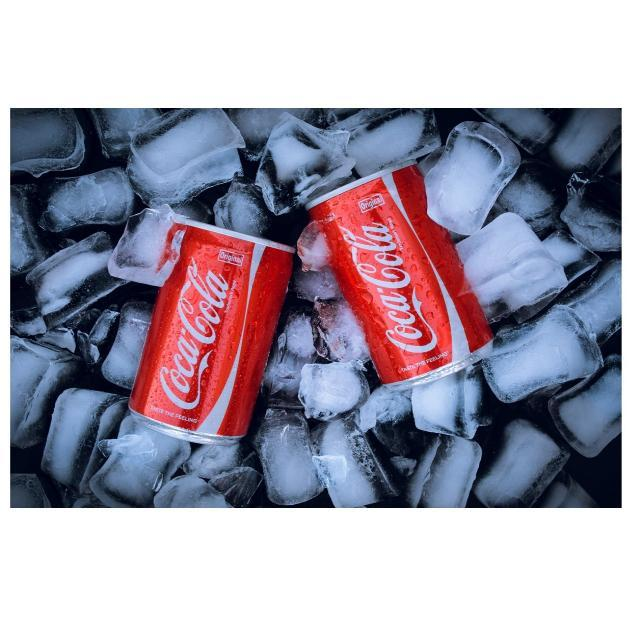coca-cola: (308, 158, 497, 392), (128, 218, 296, 450)
